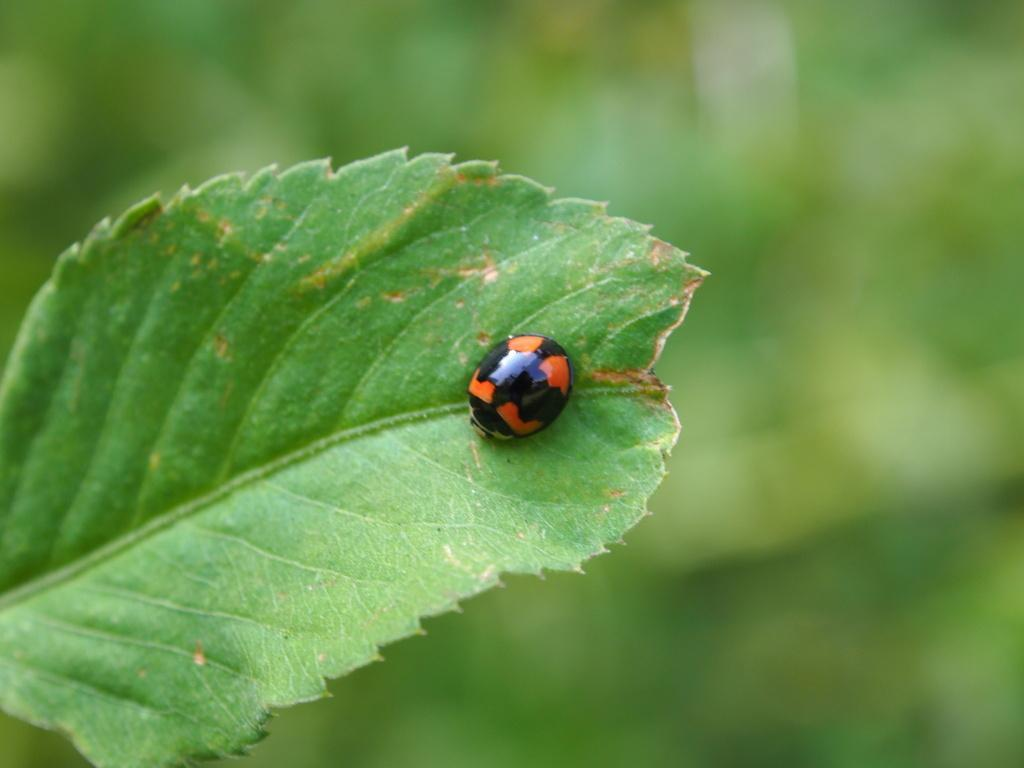ladybug: (461, 329, 587, 453)
